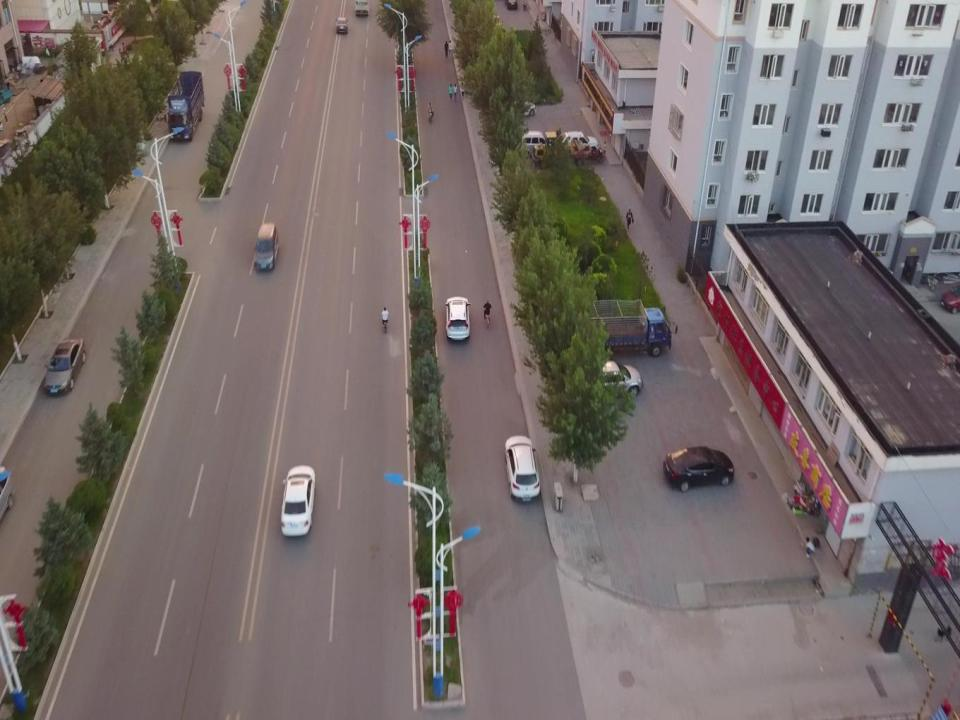car: (663, 446, 735, 492), (571, 359, 643, 401), (42, 337, 86, 395), (280, 465, 315, 536), (505, 436, 540, 500), (550, 131, 598, 155), (445, 296, 471, 340), (502, 130, 545, 155), (504, 100, 535, 118), (335, 17, 349, 33)
truck: (578, 298, 678, 357), (167, 71, 205, 140), (354, 0, 370, 16)
van: (253, 222, 280, 271)
